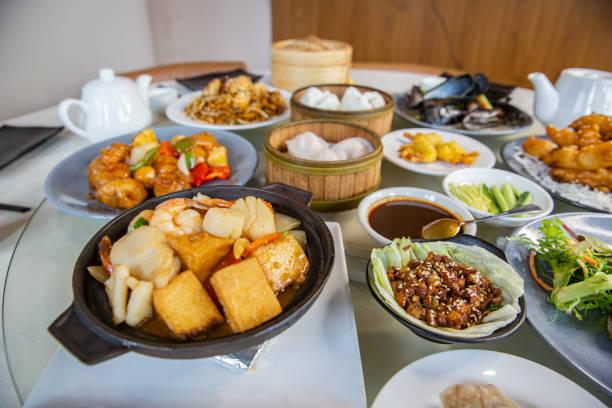Braised Crucian Carp: (47, 178, 338, 364), (360, 232, 523, 358), (42, 127, 254, 218)
